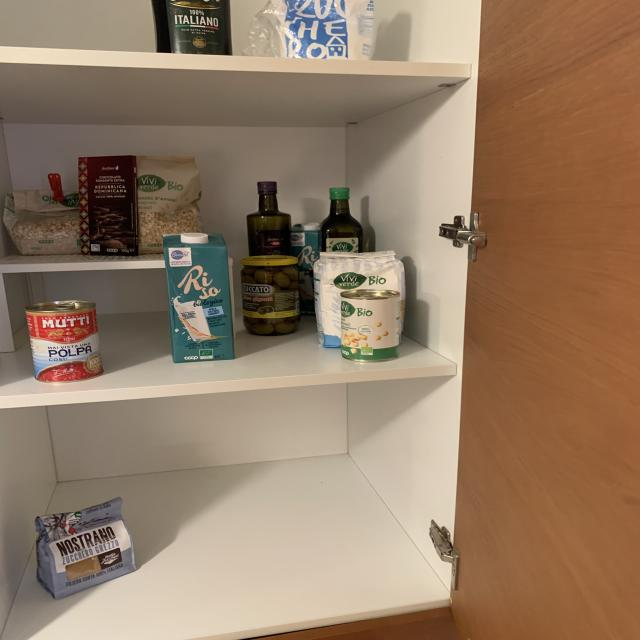chickpeas: (341, 289, 402, 360)
chocolate: (76, 154, 136, 256)
flour: (316, 252, 408, 352)
milk: (163, 233, 233, 363), (294, 222, 328, 313)
oats: (136, 157, 206, 260), (6, 198, 78, 254)
oil: (152, 0, 234, 52), (246, 181, 292, 257), (320, 186, 360, 252)
olives: (241, 268, 301, 334)
sugar: (40, 497, 138, 595), (262, 0, 377, 56)
tomato_sauce: (26, 300, 101, 381)
